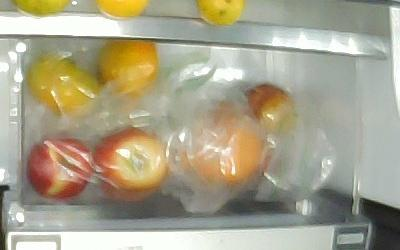apple_vinyl: (93, 122, 170, 201), (26, 131, 94, 199)
grapefruit_vinyl: (179, 98, 263, 185)
persimmon_vinyl: (23, 50, 100, 116), (98, 39, 159, 95)
prune_vinyl: (245, 84, 296, 133)
